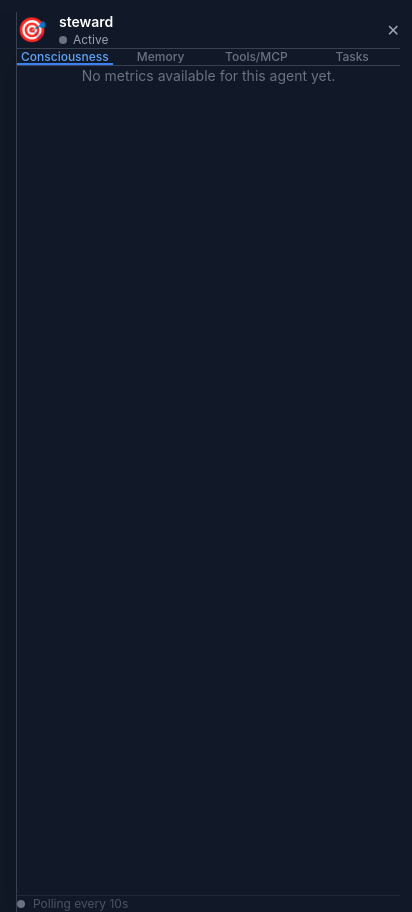
it: MemoryTabContent › renders populated memory data with by_type breakdown and recent entries
Click the tab "Memory" at (161, 57), box left=113, top=49, right=209, bottom=65
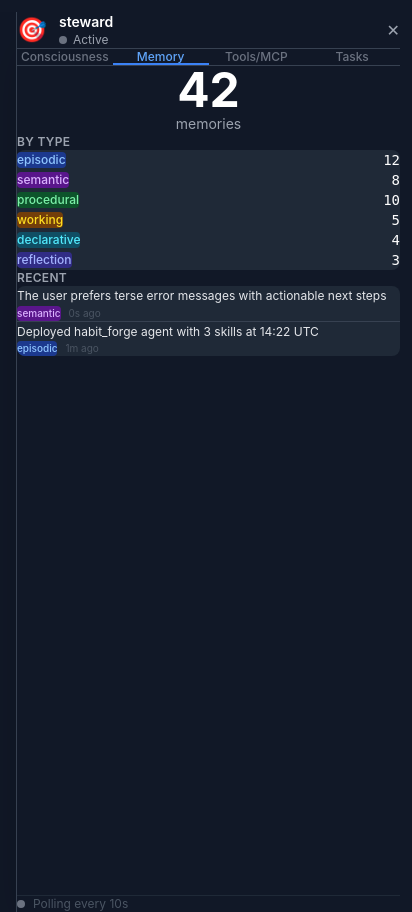
expect the text "42" is shown: met, box left=177, top=66, right=240, bottom=119
expect the text "memories" is shown: met, box left=176, top=115, right=241, bottom=132
expect the heading "By Type" is shown: met, box left=17, top=134, right=70, bottom=149
